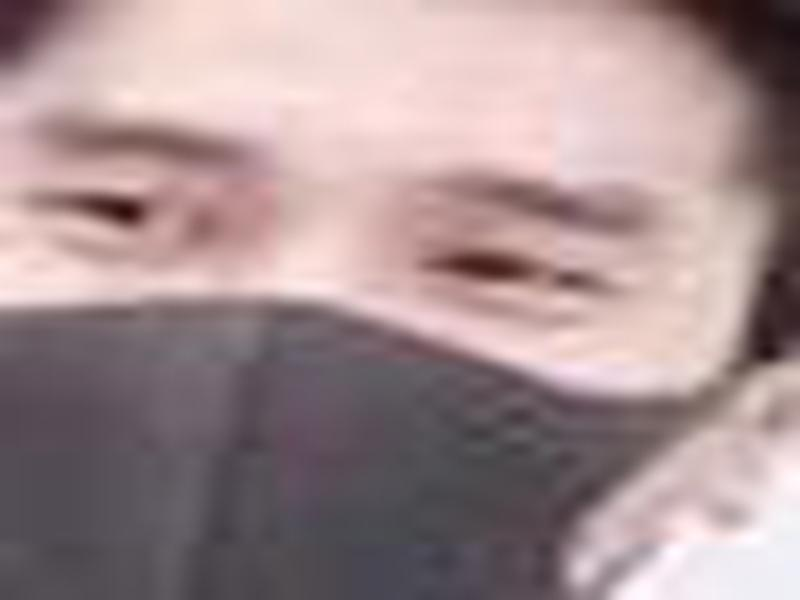with_mask: (1, 3, 787, 600)
